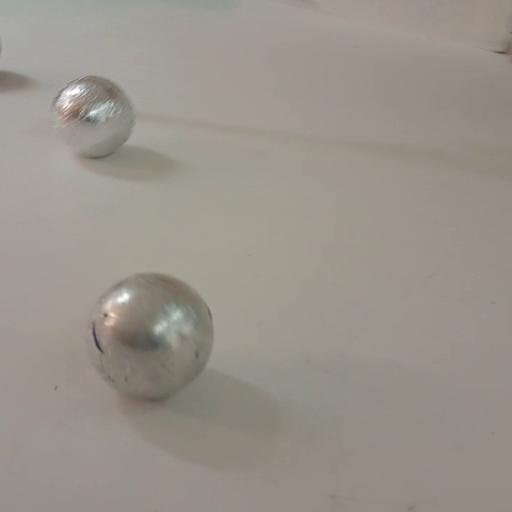alive: (85, 270, 219, 406), (49, 75, 137, 159)
